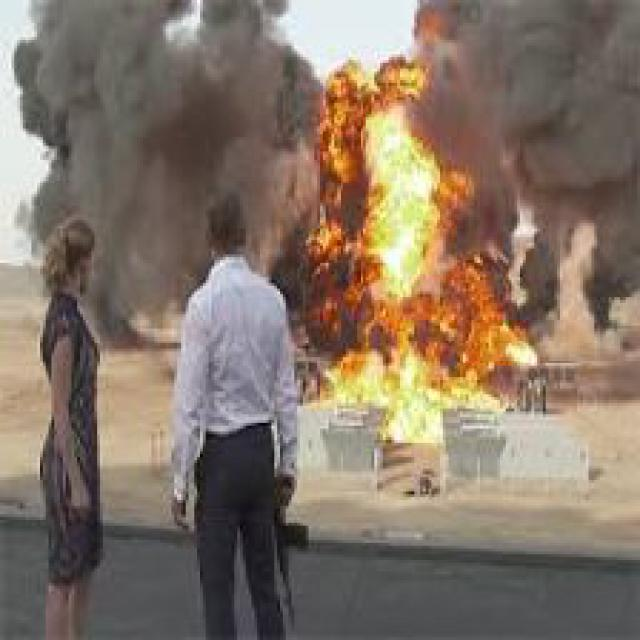fire: (297, 14, 554, 454)
